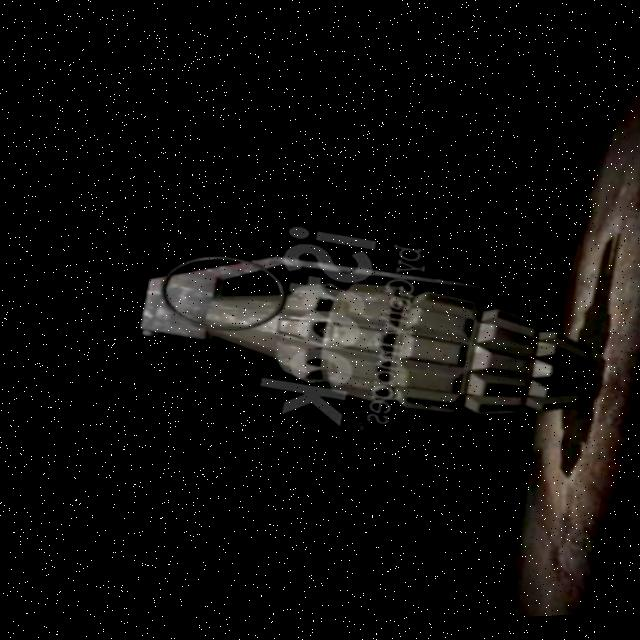grenade: (103, 205, 614, 462)
